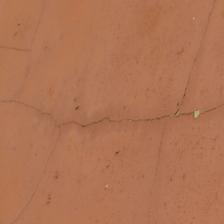Crack: (0, 0, 109, 83), (0, 156, 165, 196), (91, 138, 131, 224)
